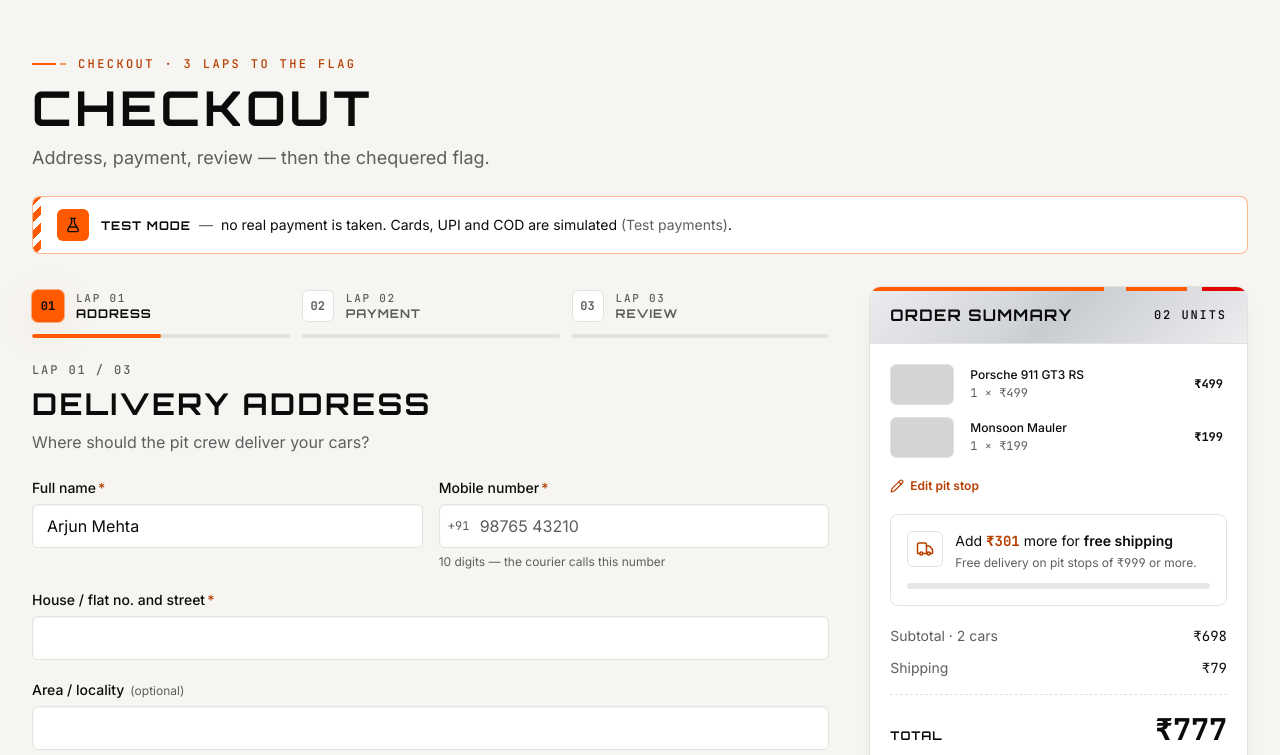
Scenario: CheckoutPage › validates the address before advancing (step stays in the URL flow)
Expected: the element "Test mode" shows "no real payment is taken", [221,216,382,233]
Clear the field labelled "Full name*": point(227, 526) [32,504,423,548]
(page scrolled)
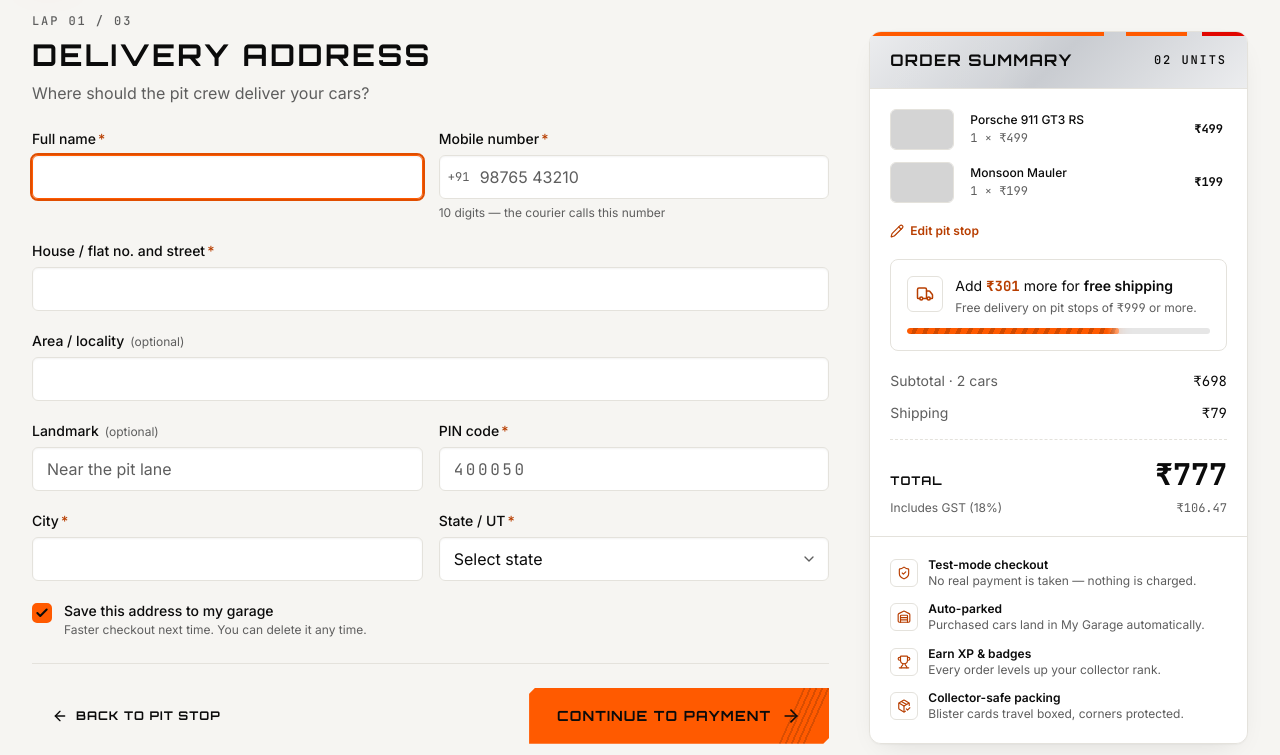
Click the button "Continue to payment": point(679, 716) [529,688,829,744]
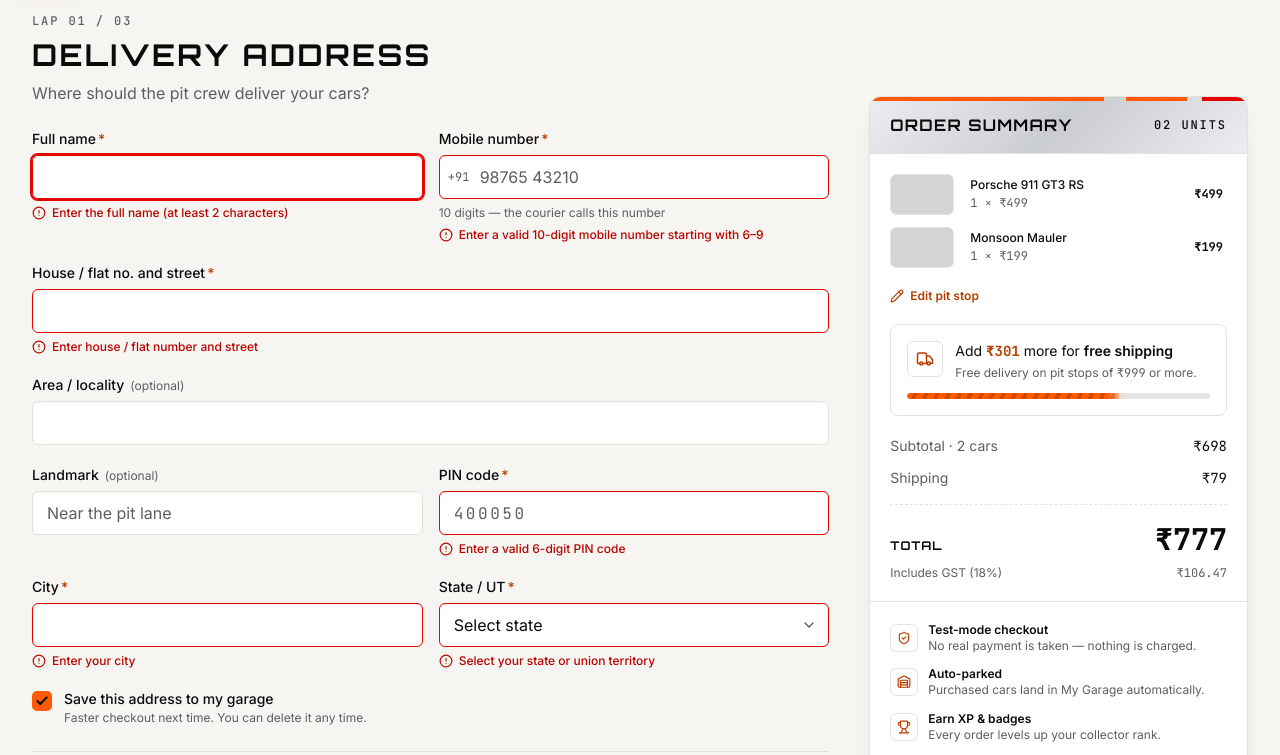
Result: the text "Enter the full name (at least 2 characters)" is shown at [52,205,288,221]
Result: the text "Enter a valid 10-digit mobile number starting with 6–9" is shown at [459,227,764,243]
Result: the text "Enter a valid 6-digit PIN code" is shown at [459,541,626,557]
